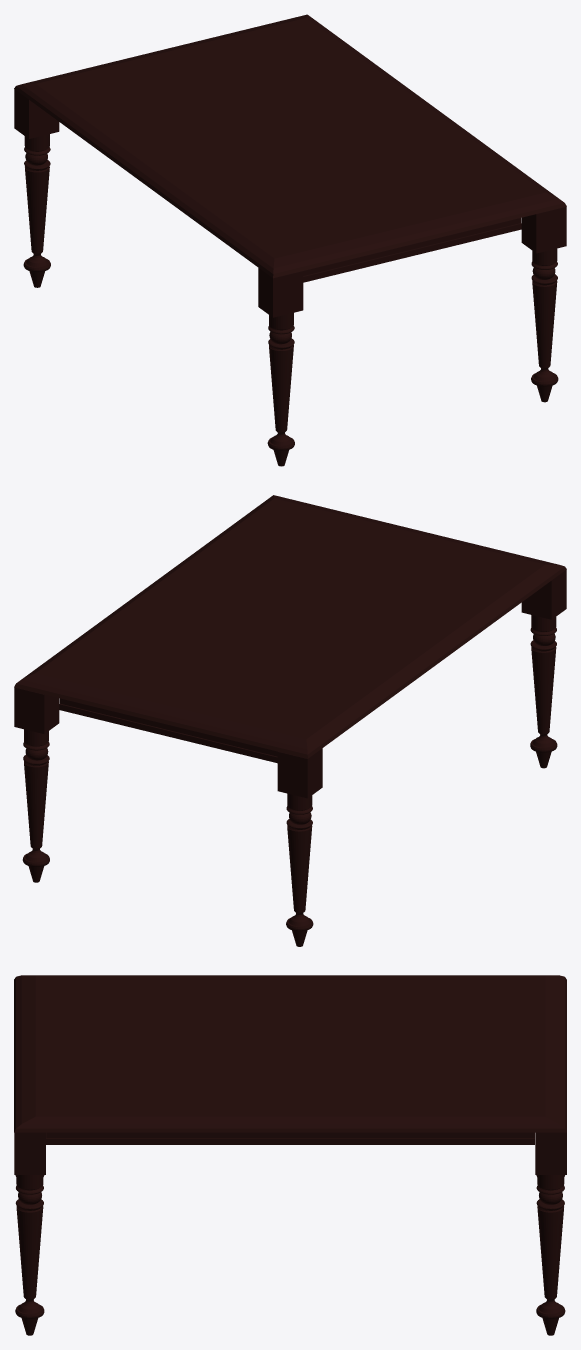
The model's file is square table.fbx.
3 views of the same model, one above another, from view 1: azimuth 30°, elevation 25°; view 2: azimuth 150°, elevation 25°; view 3: azimuth 270°, elevation 25° (orthographic). The views are drawn at different scales.
Visible parts, largest first — view 1: Cube; view 2: Cube; view 3: Cube.
Boxes of the visible parts, left/top/right/bottom form: Cube: left=14, top=14, right=566, bottom=466; Cube: left=14, top=495, right=566, bottom=946; Cube: left=14, top=975, right=566, bottom=1335.
Bounding box in the file's own units: 639 × 975 × 427.
